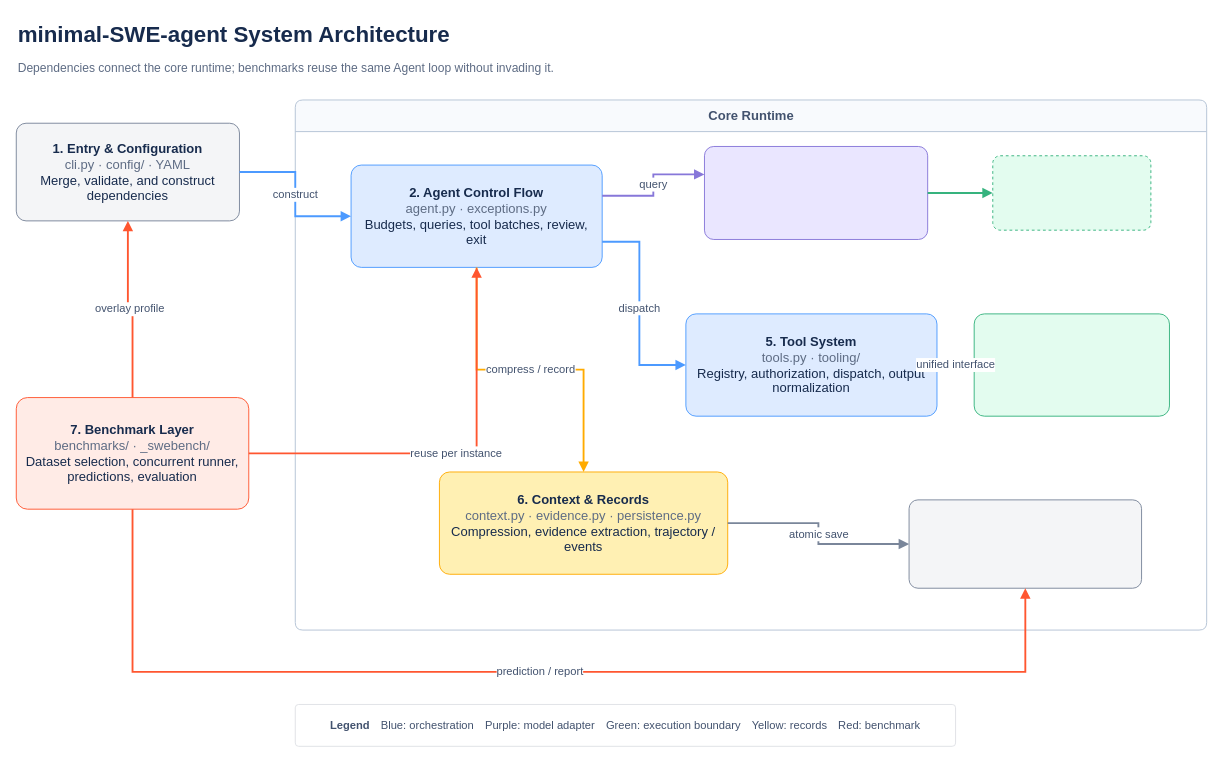
Image size: 1223x763. Some labels were removed from this diagram. Here are the shapes that lost their labels. From the top down, the centre of each, then its label:
the point at 816,192: 3. Model & Cost model.py · cost.py Provider requests and usage-based cost
the point at 1071,192: OpenAI-compatible Provider
the point at 1071,364: 4. Execution Environment environments/ Local / Docker commands and file I/O
the point at 1025,543: Runtime Artifacts .traj.json · .events.jsonl preds.jsonl · harness reports
